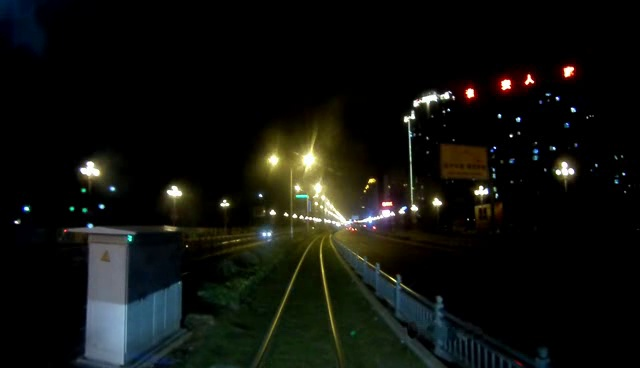car: (262, 228, 275, 241)
